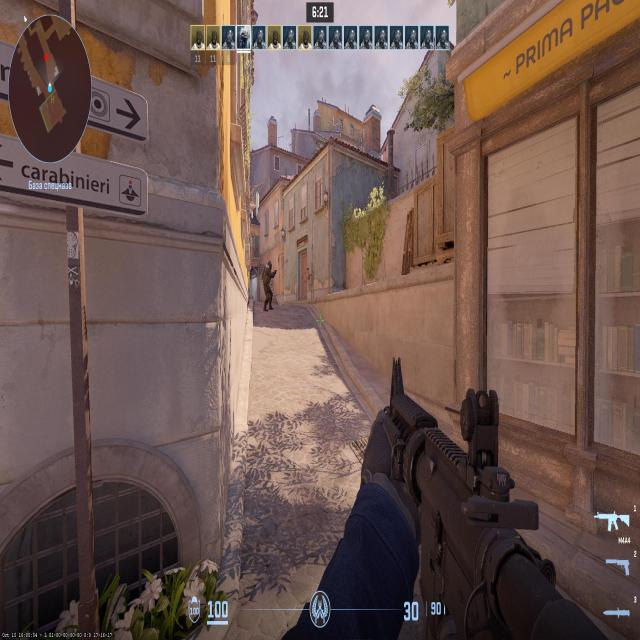CT: (264, 260, 274, 315)
CT_heat: (268, 261, 272, 270)
